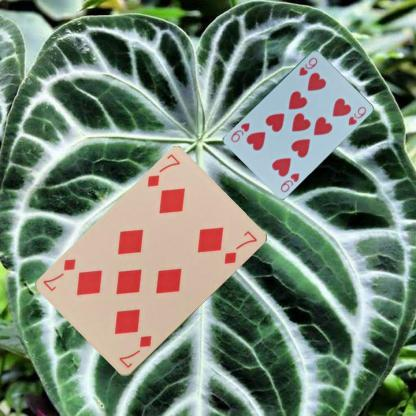7d: (144, 151, 181, 189), (116, 333, 153, 370)
9h: (296, 54, 319, 77), (278, 170, 300, 193)
